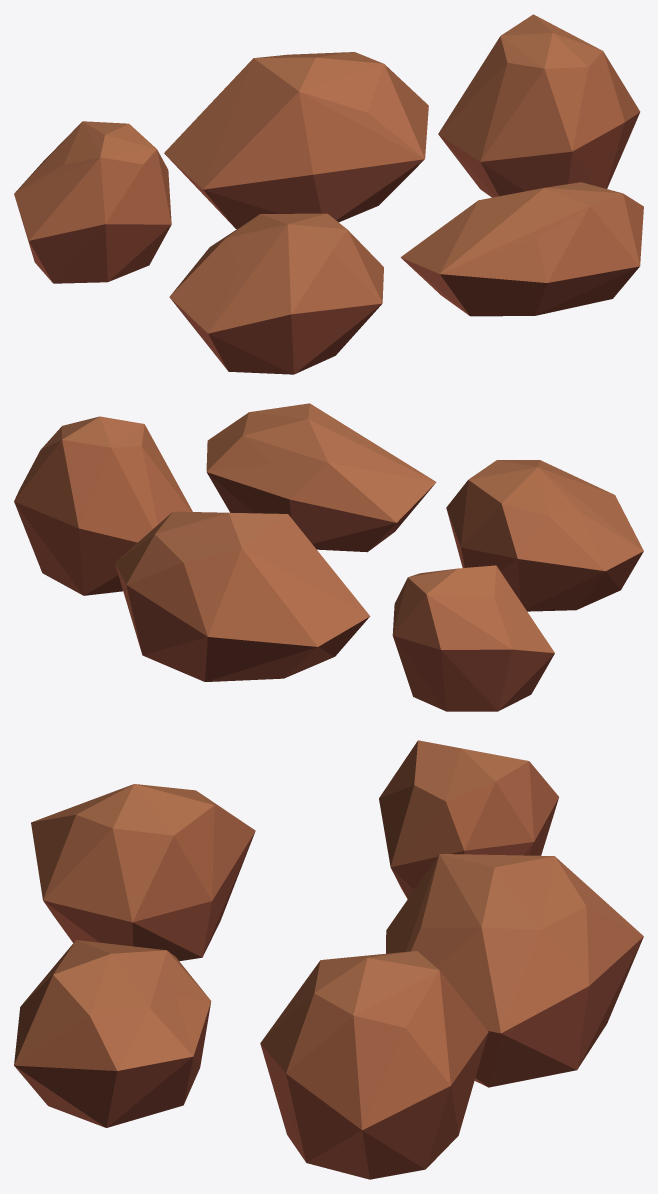
The model's file is rock-pebbles.glb.
The picture shows the model from 3 angles, top to bottom: view 1: azimuth 30°, elevation 25°; view 2: azimuth 150°, elevation 25°; view 3: azimuth 270°, elevation 25°; orthographic projection. The views are drawn at different scales.
Parts seen in each view (by area): view 1: pebble_variant_2, pebble_variant_4, pebble_variant_3, pebble_variant_5, pebble_variant_1; view 2: pebble_variant_2, pebble_variant_5, pebble_variant_4, pebble_variant_3, pebble_variant_1; view 3: pebble_variant_3, pebble_variant_2, pebble_variant_4, pebble_variant_5, pebble_variant_1.
Boxes of the visible parts, x1=… form: pebble_variant_2: x1=164, y1=52, x2=428, y2=228; pebble_variant_4: x1=169, y1=213, x2=383, y2=374; pebble_variant_3: x1=438, y1=14, x2=640, y2=197; pebble_variant_5: x1=400, y1=182, x2=643, y2=316; pebble_variant_1: x1=14, y1=121, x2=171, y2=283; pebble_variant_2: x1=115, y1=511, x2=370, y2=681; pebble_variant_5: x1=206, y1=403, x2=436, y2=552; pebble_variant_4: x1=446, y1=460, x2=643, y2=611; pebble_variant_3: x1=14, y1=416, x2=192, y2=595; pebble_variant_1: x1=392, y1=565, x2=554, y2=711; pebble_variant_3: x1=260, y1=951, x2=488, y2=1179; pebble_variant_2: x1=386, y1=854, x2=643, y2=1087; pebble_variant_4: x1=31, y1=784, x2=255, y2=961; pebble_variant_5: x1=14, y1=940, x2=211, y2=1127; pebble_variant_1: x1=379, y1=740, x2=558, y2=899.
Bounding box in the file's own units: 0.713 × 0.18 × 0.5409.
